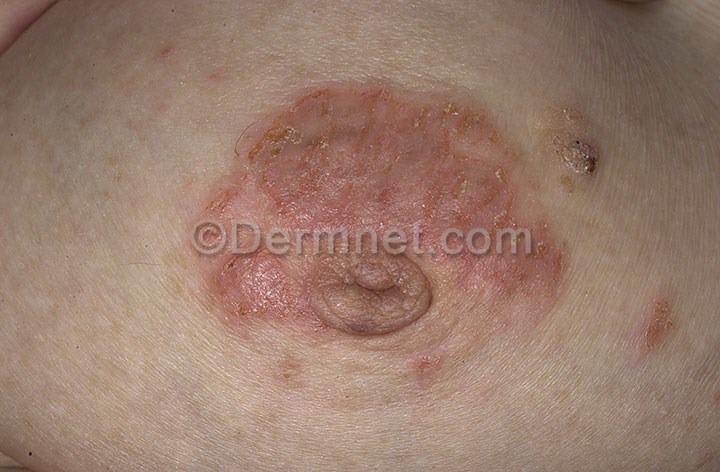Eczema: (258, 88, 526, 235), (455, 246, 567, 336), (209, 244, 304, 343), (546, 105, 607, 190), (639, 284, 682, 359)
